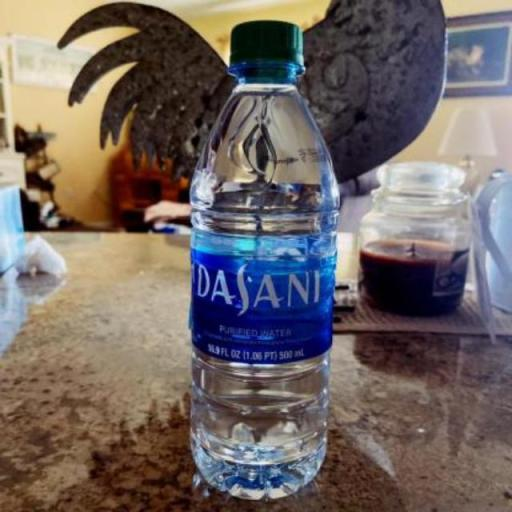Coca: (178, 8, 356, 512)
